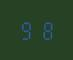eight: (36, 20, 52, 40)
nine: (19, 20, 35, 40)
